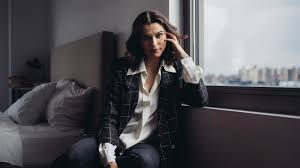black_female: (128, 9, 183, 61)
